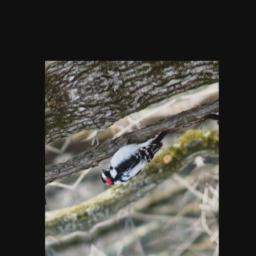Woodpecker: (92, 123, 182, 192)
